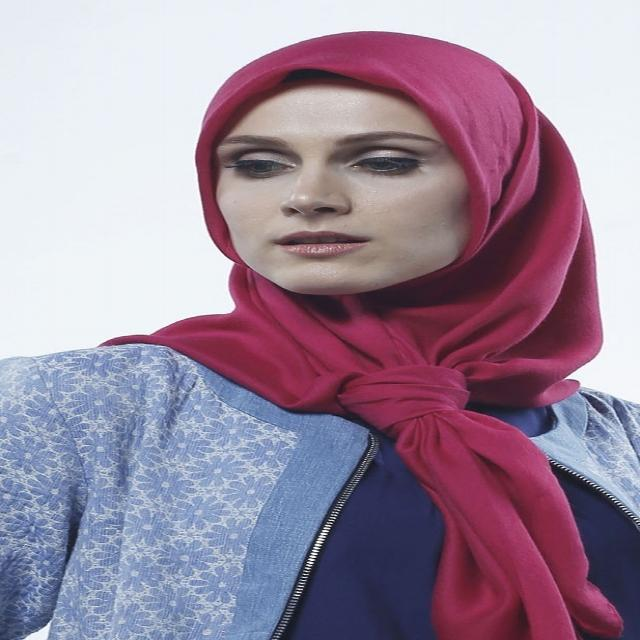head: (170, 37, 562, 306)
